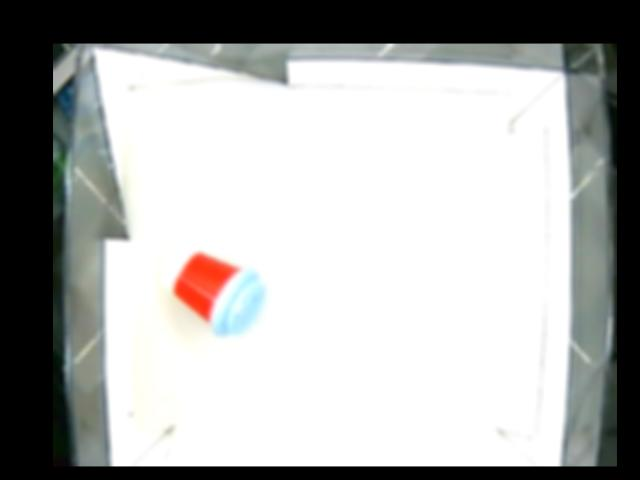Cup: (164, 249, 267, 336)
